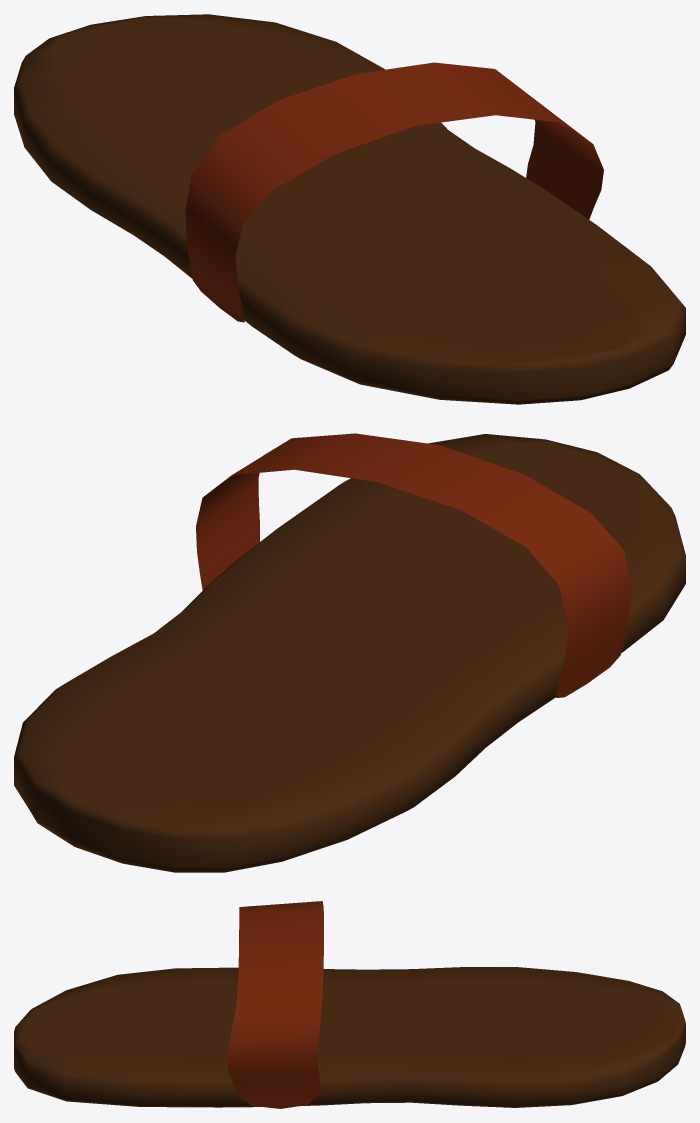
File: sandals-1.glb
3 renders of one model, top to bottom at view 1: azimuth 30°, elevation 25°; view 2: azimuth 150°, elevation 25°; view 3: azimuth 270°, elevation 25°, orthographic. The views are drawn at different scales.
Parts seen in each view (by area): view 1: sandales; view 2: sandales; view 3: sandales.
Part boxes in pixels (x1,y1,x2,y2): sandales: [14, 14, 685, 404]; sandales: [14, 433, 685, 872]; sandales: [14, 901, 685, 1108].
Size of the model in its own units: 0.3849 by 0.1753 by 0.8703.
